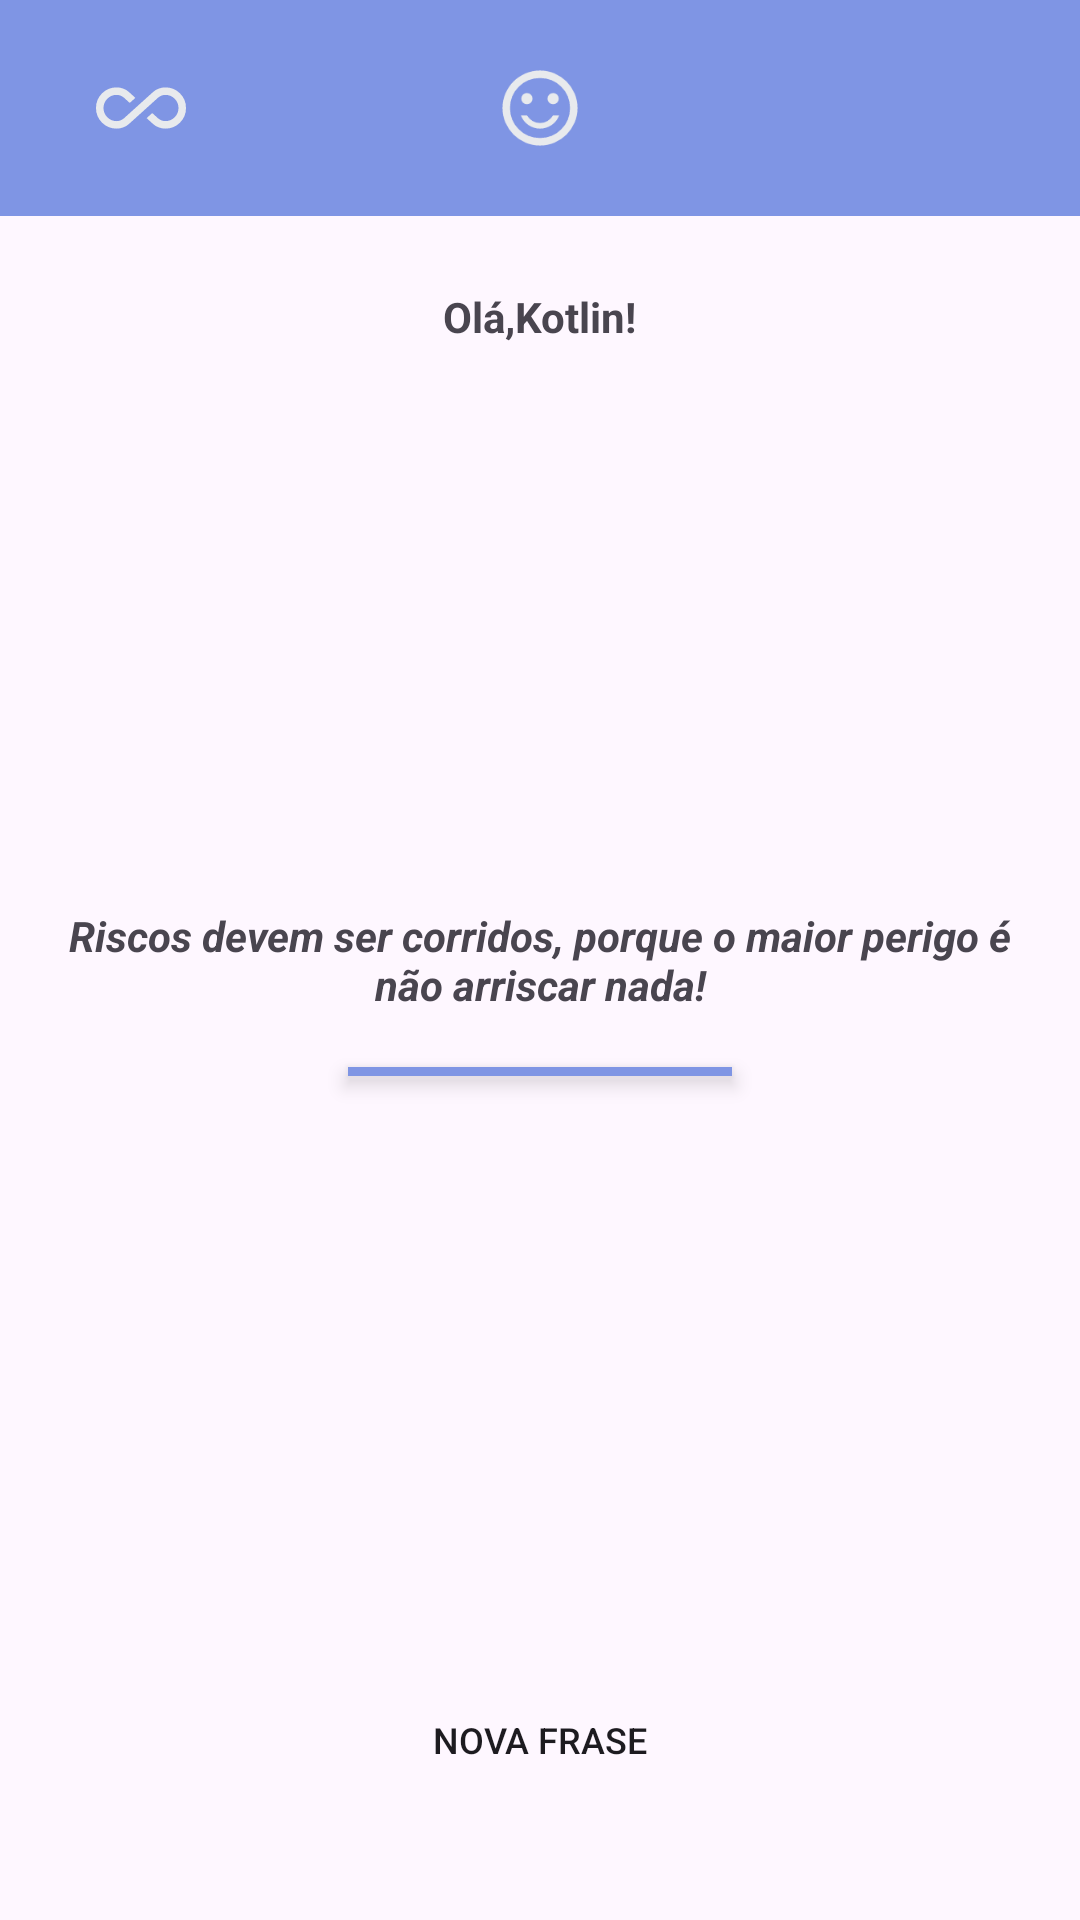

Icons on this 1080 × 1920 Android screen, each with its box as (x1,y1,x2,y2):
Icone Infinito: (96,87,186,129)
Icone Smile: (502,70,578,146)
